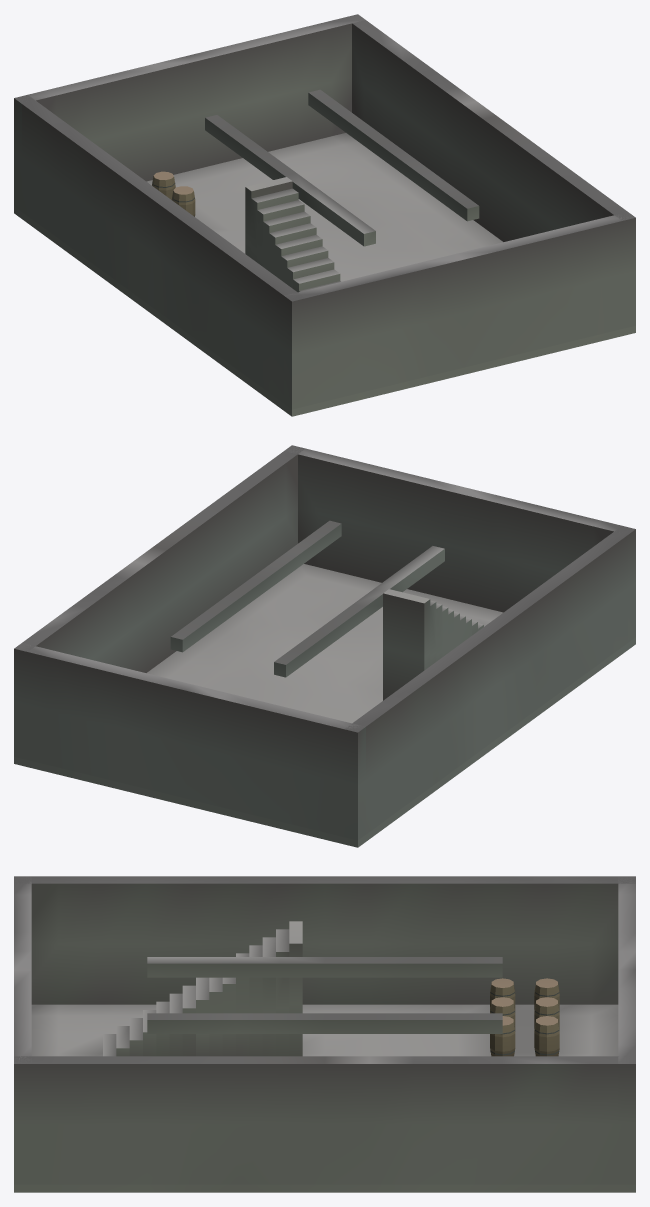
Rendered from cellar.glb.
The picture shows the model from 3 angles, top to bottom: view 1: azimuth 30°, elevation 25°; view 2: azimuth 150°, elevation 25°; view 3: azimuth 270°, elevation 25°; orthographic projection. The views are drawn at different scales.
Visible parts, largest first — view 1: wall_rubble_4.022, wall_rubble_4.021, wall_rubble_4.020, wall_rubble_4.015, wall_rubble_4.014, wall_rubble_4.019, wall_rubble_4.013, wall_rubble_4.017, wall_rubble_2.010, wall_rubble_4.016, stair_straight.008, wall_rubble_4.018 (+15 smaller); view 2: wall_rubble_4.020, wall_rubble_4.019, wall_rubble_4.022, wall_rubble_4.013, wall_rubble_4.015, wall_rubble_4.014, wall_rubble_4.021, wall_rubble_4.017, wall_rubble_4.018, wall_rubble_2.009, stair_straight.008, floor_flag_4.040 (+17 smaller); view 3: wall_rubble_4.017, wall_rubble_4.018, wall_rubble_4.016, wall_rubble_4.013, wall_rubble_4.014, wall_rubble_4.015, stair_straight.008, wall_rubble_2.008, wall_rubble_2.007, rib_8.001, rib_8.002, floor_flag_4.035 (+23 smaller).
Part boxes in pixels (bbox=[...]): wall_rubble_4.022: bbox=[422, 229, 567, 375]; wall_rubble_4.021: bbox=[284, 262, 429, 409]; wall_rubble_4.020: bbox=[152, 31, 296, 174]; wall_rubble_4.015: bbox=[173, 211, 265, 379]; wall_rubble_4.014: bbox=[93, 153, 185, 321]; wall_rubble_4.019: bbox=[14, 64, 159, 211]; wall_rubble_4.013: bbox=[15, 95, 106, 263]; wall_rubble_4.017: bbox=[423, 72, 516, 241]; wall_rubble_2.010: bbox=[559, 214, 635, 342]; wall_rubble_4.016: bbox=[351, 16, 436, 164]; stair_straight.008: bbox=[245, 177, 340, 292]; wall_rubble_4.018: bbox=[503, 130, 595, 241]; wall_rubble_4.020: bbox=[82, 660, 227, 806]; wall_rubble_4.019: bbox=[220, 693, 365, 840]; wall_rubble_4.022: bbox=[353, 462, 497, 608]; wall_rubble_4.013: bbox=[344, 671, 437, 840]; wall_rubble_4.015: bbox=[503, 555, 596, 723]; wall_rubble_4.014: bbox=[424, 613, 516, 781]; wall_rubble_4.021: bbox=[490, 495, 635, 642]; wall_rubble_4.017: bbox=[94, 532, 186, 672]; wall_rubble_4.018: bbox=[173, 474, 265, 624]; wall_rubble_2.009: bbox=[14, 643, 90, 773]; stair_straight.008: bbox=[383, 589, 484, 700]; floor_flag_4.040: bbox=[242, 599, 382, 690]; wall_rubble_4.017: bbox=[280, 1056, 458, 1184]; wall_rubble_4.018: bbox=[103, 1056, 280, 1184]; wall_rubble_4.016: bbox=[458, 1056, 635, 1184]; wall_rubble_4.013: bbox=[458, 876, 635, 1004]; wall_rubble_4.014: bbox=[280, 876, 458, 1004]; wall_rubble_4.015: bbox=[103, 876, 280, 1004]; stair_straight.008: bbox=[103, 921, 302, 1056]; wall_rubble_2.008: bbox=[14, 1056, 102, 1184]; wall_rubble_2.007: bbox=[14, 876, 102, 1004]; rib_8.001: bbox=[147, 957, 502, 977]; rib_8.002: bbox=[147, 1013, 502, 1033]; floor_flag_4.035: bbox=[458, 1004, 618, 1056].
Bounding box in the file's own units: 10 × 3.2 × 14.
